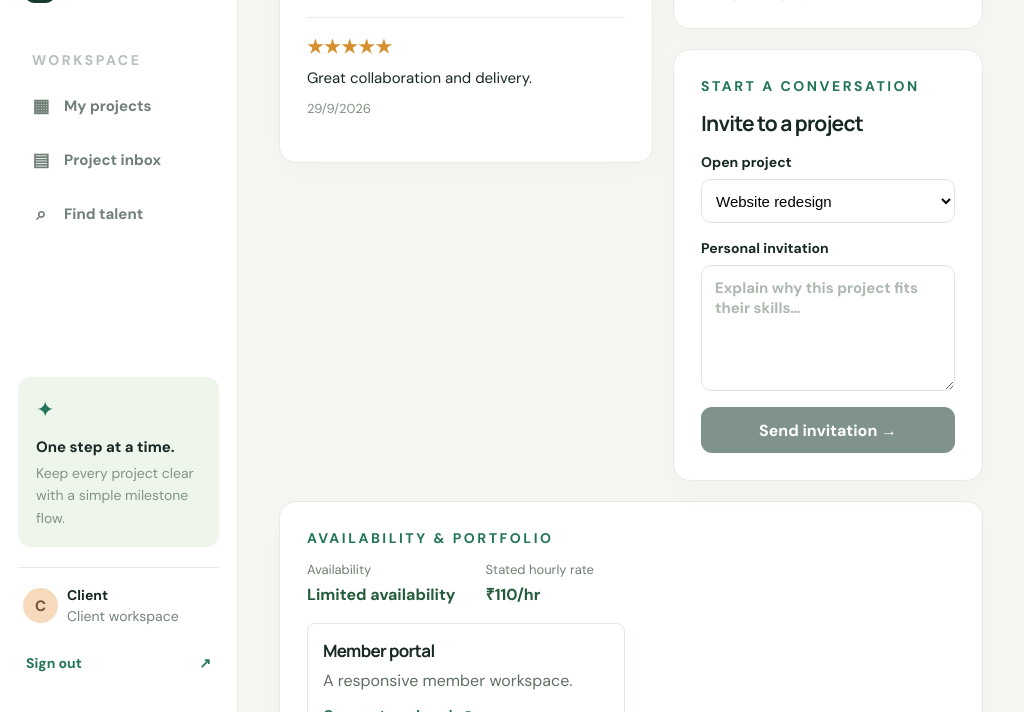
Test: client can review a freelancer profile and invite them
(page scrolled)
Expected: the text "Great collaboration and delivery." is shown, [307,68,532,88]
Expected: the text "Limited availability" is shown, [307,584,456,605]
Step 1. Type "Your React work fits my website redesign project." into the text box labelled "Personal invitation" → (828, 328), box [701,265,955,391]
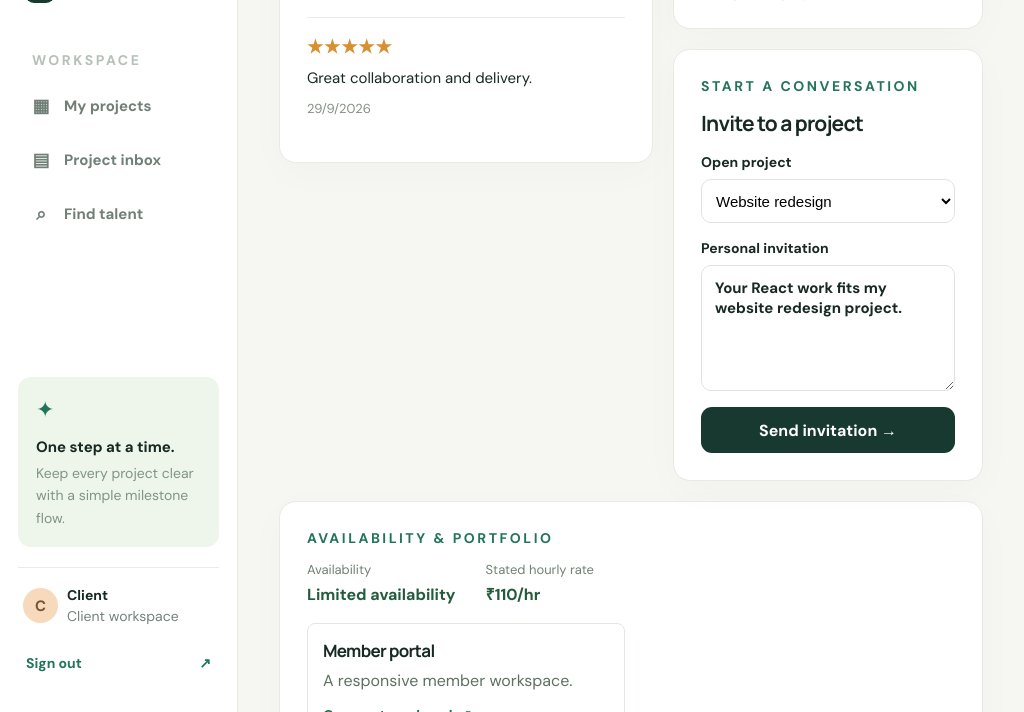
Step 2. Click the button "Send invitation →" → (828, 430), box [701,407,955,453]
(page scrolled)
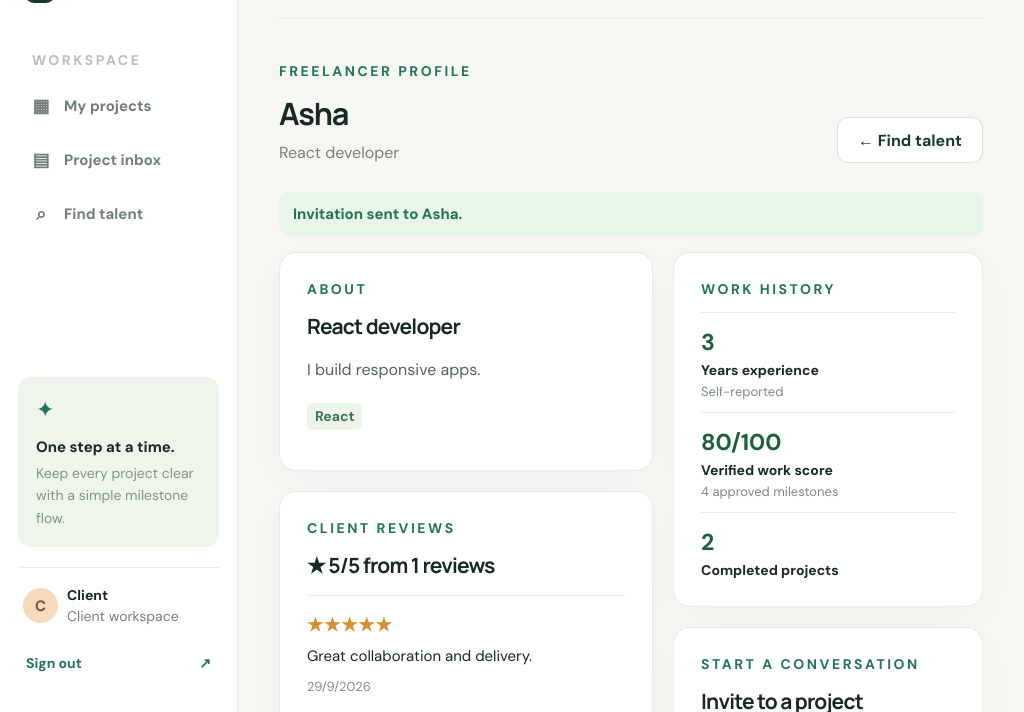
Expected: the text "Invitation sent to Asha." is shown, [279,192,983,236]
